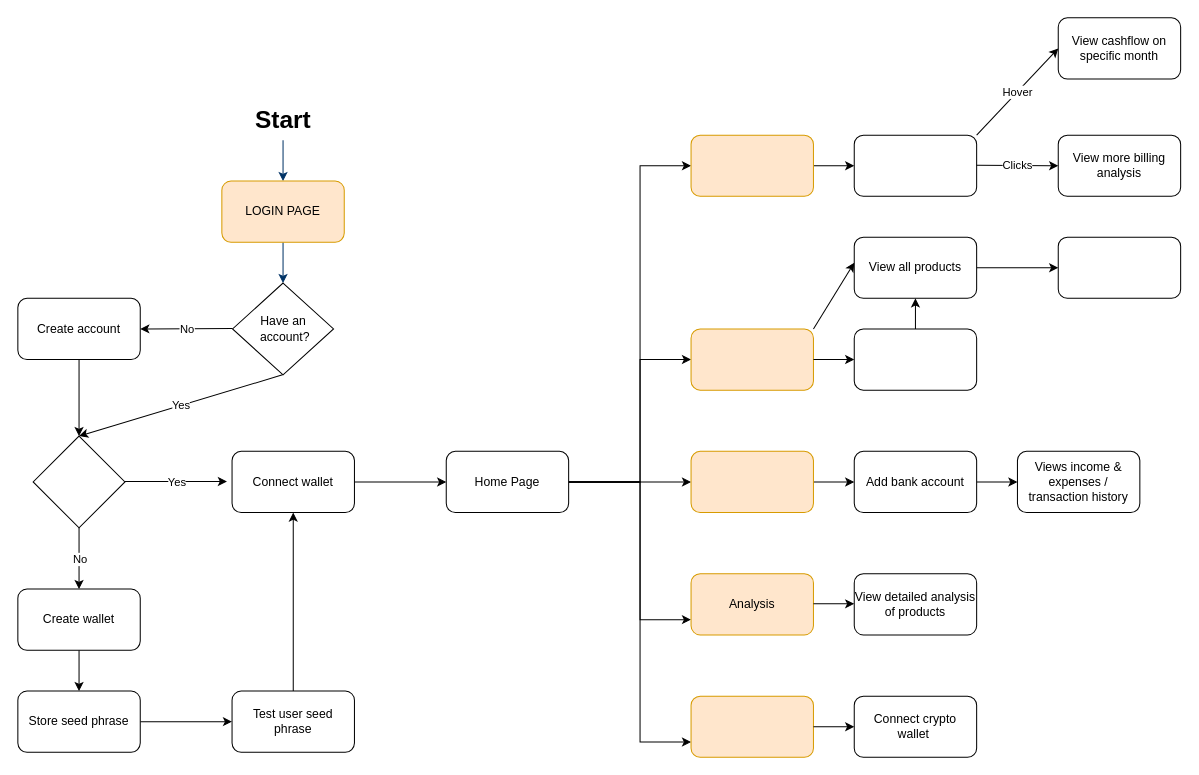
The diagram is 1199 pixels wide and 775 high, and some of its shapes have lost their labels. The shapes that lost their labels are listed below. From the top down, each one's centre as x and y in pixels, then its label:
At [751,165]: "Home Dashboard".
At [915,165]: "View overview analysis".
At [1119,267]: "Click to view detailed information".
At [751,359]: "Products".
At [915,359]: "Add products".
At [78,481]: "Have a wallet?".
At [751,481]: "Balances".
At [751,726]: "Connect".
